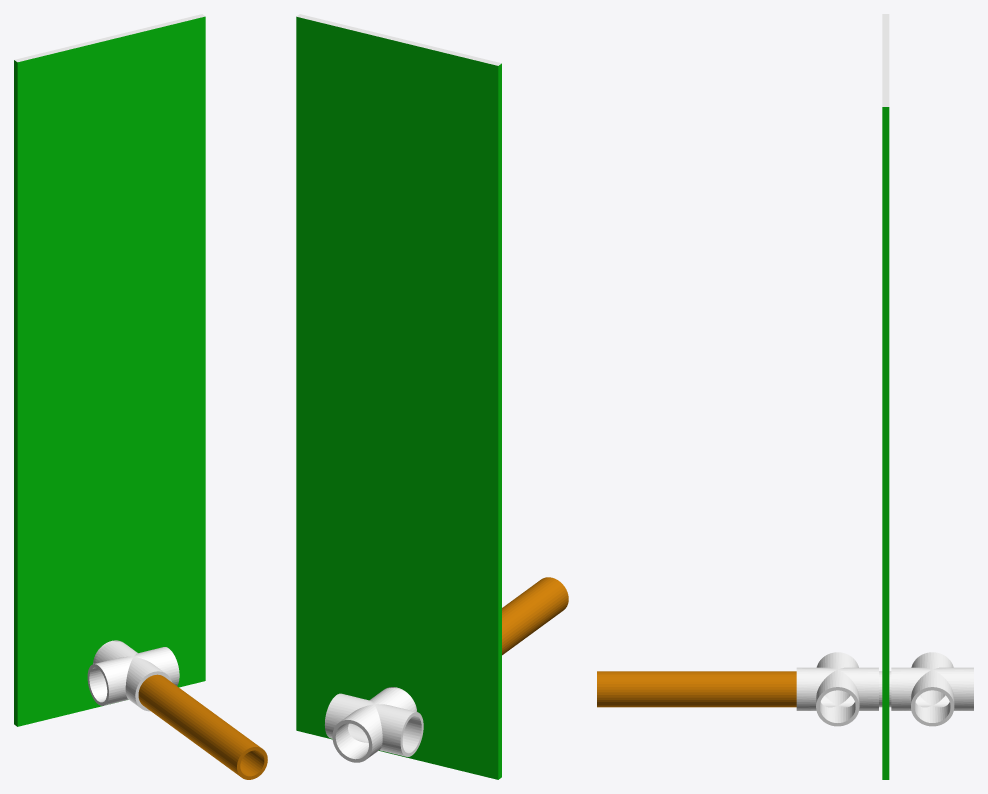
The model's file is vampire_lever.dae.
3 renders of one model, left to right at view 1: azimuth 30°, elevation 25°; view 2: azimuth 150°, elevation 25°; view 3: azimuth 270°, elevation 25°, orthographic. The views are drawn at different scales.
Visible parts, largest first — view 1: Vampire_Lever; view 2: Vampire_Lever; view 3: Vampire_Lever.
Part boxes in pixels (x1=…): Vampire_Lever: x1=14, y1=14, x2=267, y2=779; Vampire_Lever: x1=296, y1=14, x2=568, y2=779; Vampire_Lever: x1=597, y1=14, x2=973, y2=779.
Size of the model in its own units: 0.2032 by 0.3479 by 0.6858.
